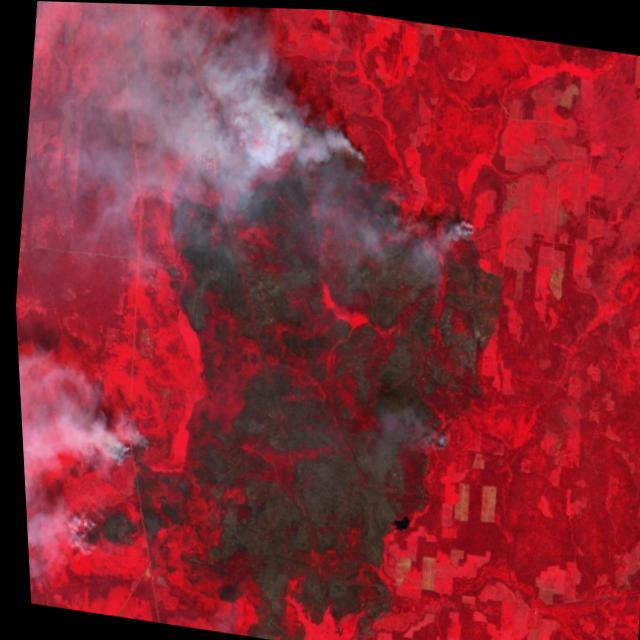fire: (182, 94, 488, 247), (58, 418, 158, 558), (425, 423, 448, 456)
